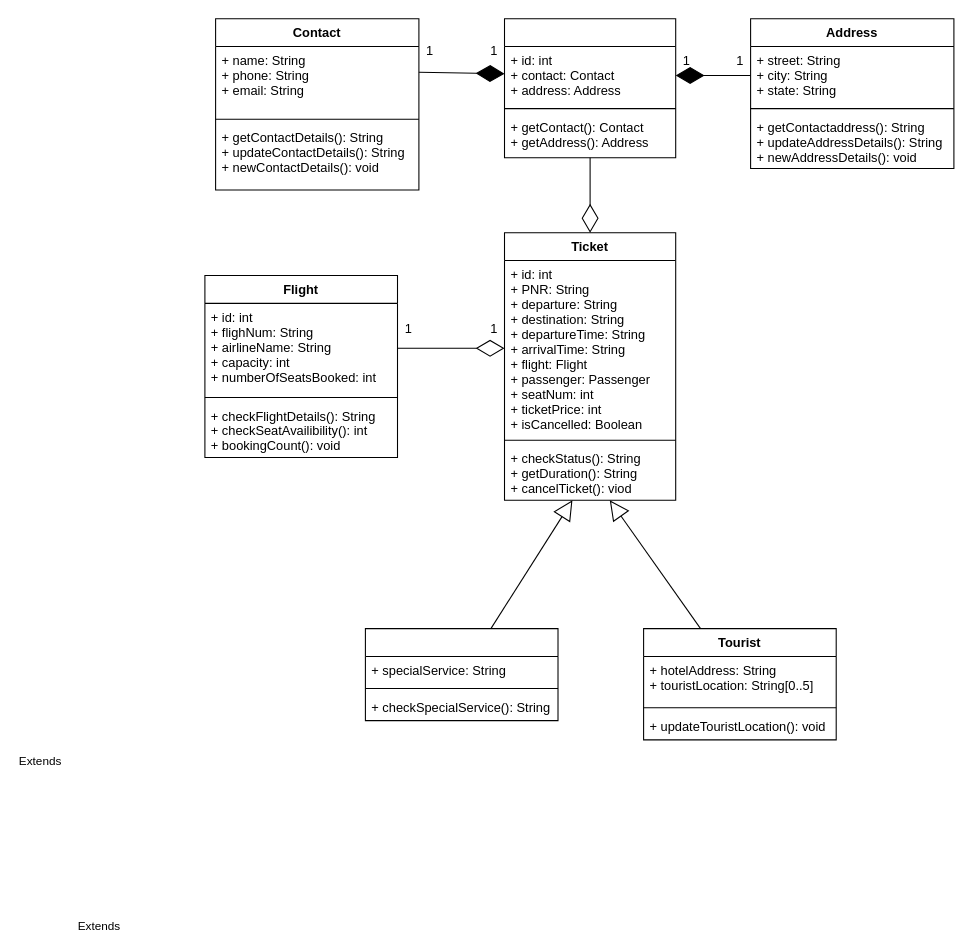
Some shapes in this 973 by 952 pixel diagram are drawn without their labels. Each missing label, with the box of its shape:
Passenger: (503, 18, 676, 158)
Regular: (364, 628, 558, 721)
